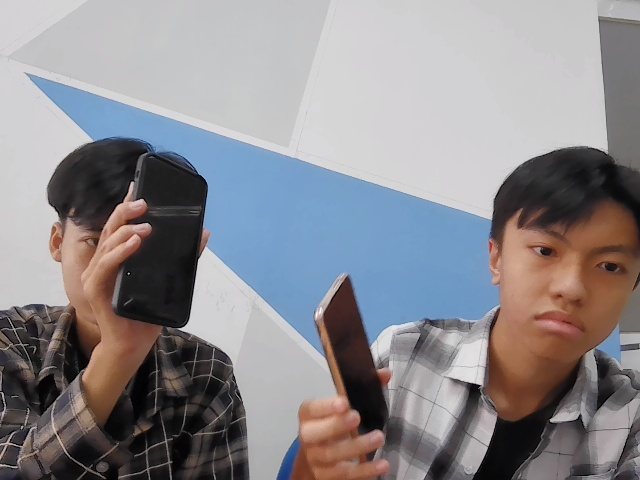human: (480, 137, 640, 357)
phone: (103, 146, 225, 328), (301, 274, 414, 452)
